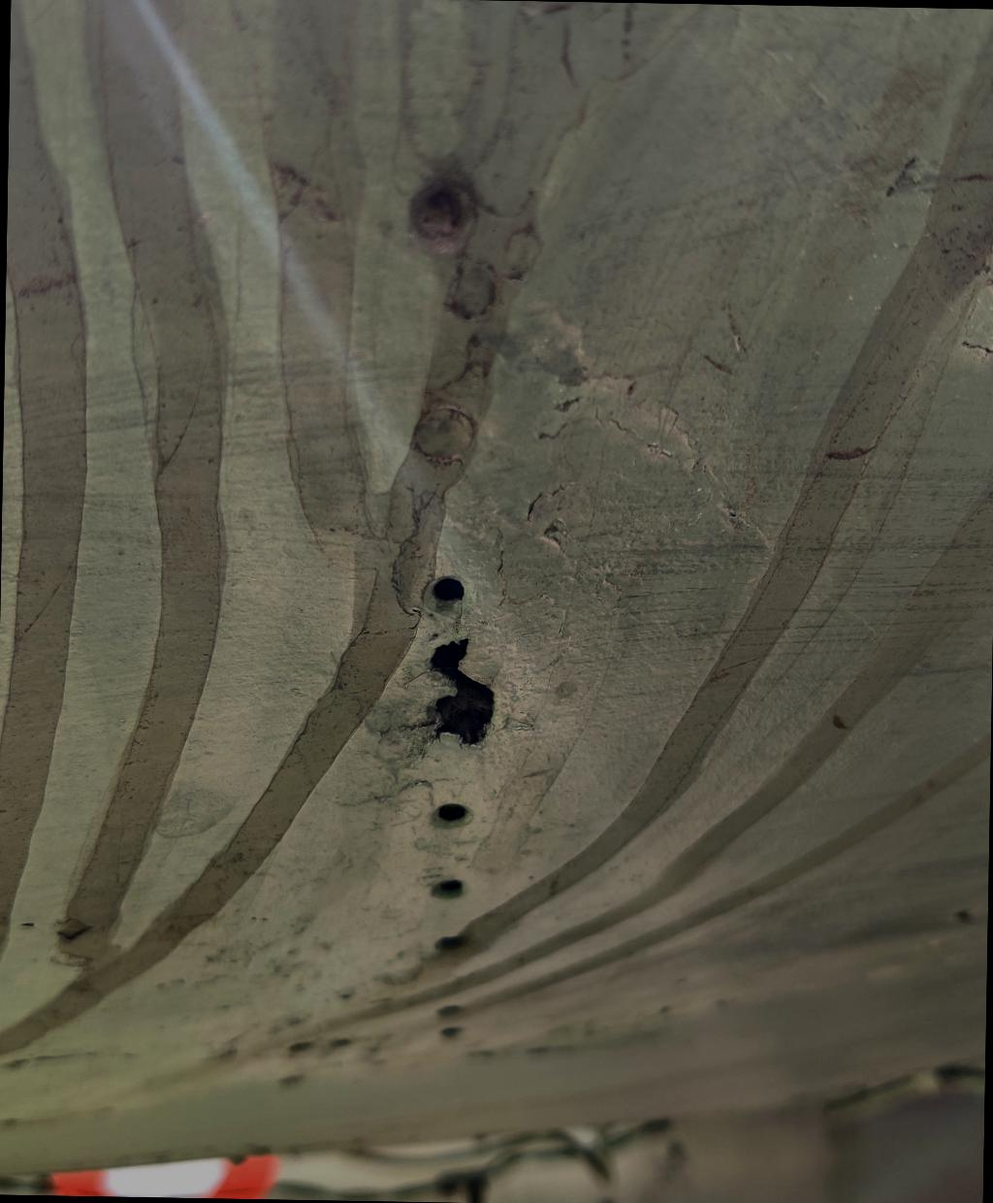crack: (385, 607, 529, 778)
